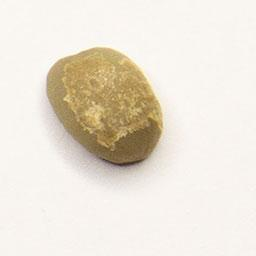premium: (41, 42, 167, 170)
